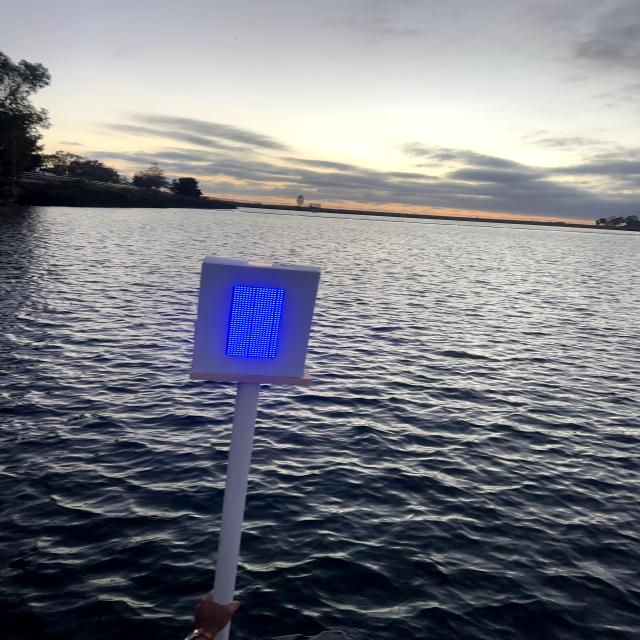led: (212, 268, 303, 379)
